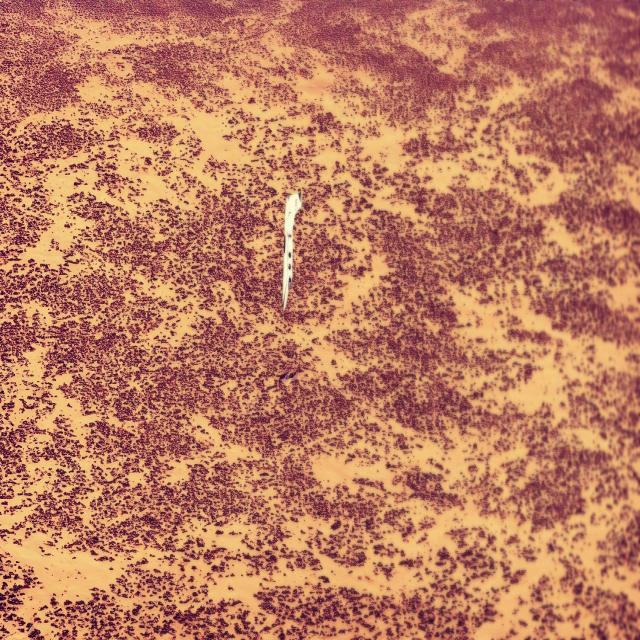airplane: (281, 190, 302, 312)
